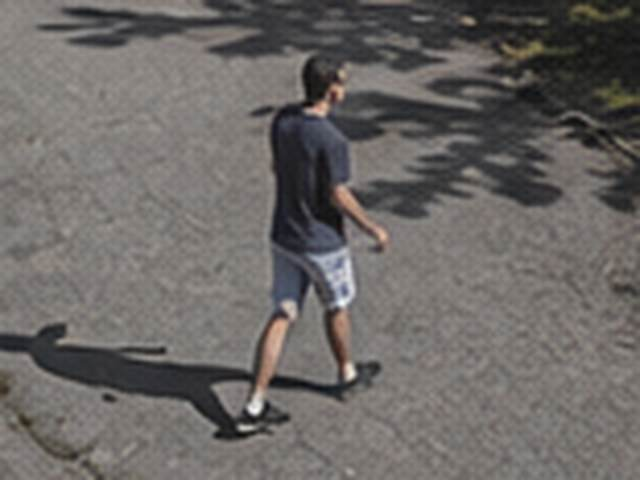suv: (236, 55, 389, 432)
